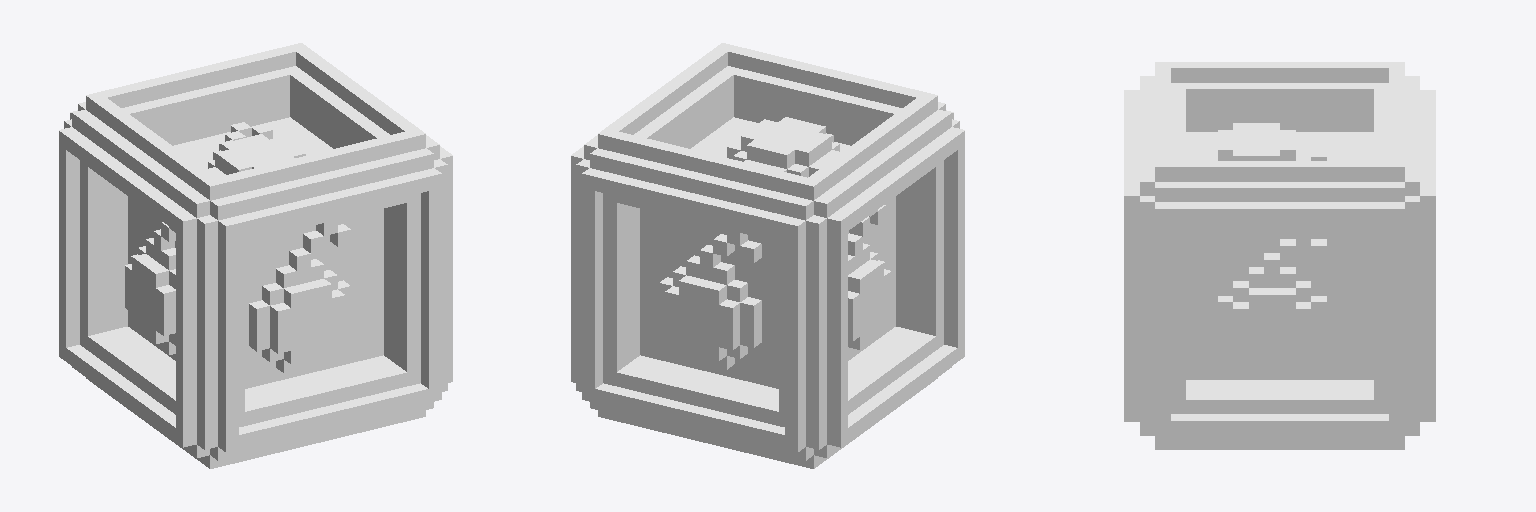
Rendered from bombBox.obj.
The picture shows the model from 3 angles: view 1: azimuth 30°, elevation 25°; view 2: azimuth 150°, elevation 25°; view 3: azimuth 270°, elevation 25°; orthographic projection.
Visible parts, largest first — view 1: object 1; view 2: object 1; view 3: object 1.
Boxes of the visible parts, box(x1,y1,x2,y2) form: object 1: box(59, 43, 452, 468); object 1: box(571, 43, 964, 468); object 1: box(1124, 62, 1435, 449).
Bounding box in the file's own units: 2 × 2 × 2.